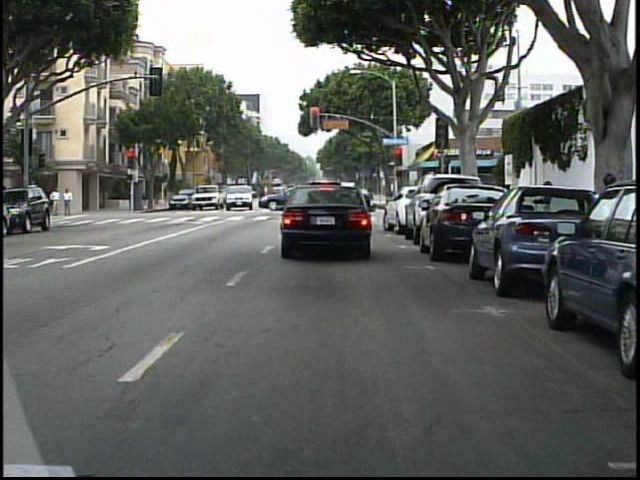person: (61, 187, 77, 219), (48, 187, 61, 218), (51, 186, 63, 219)
